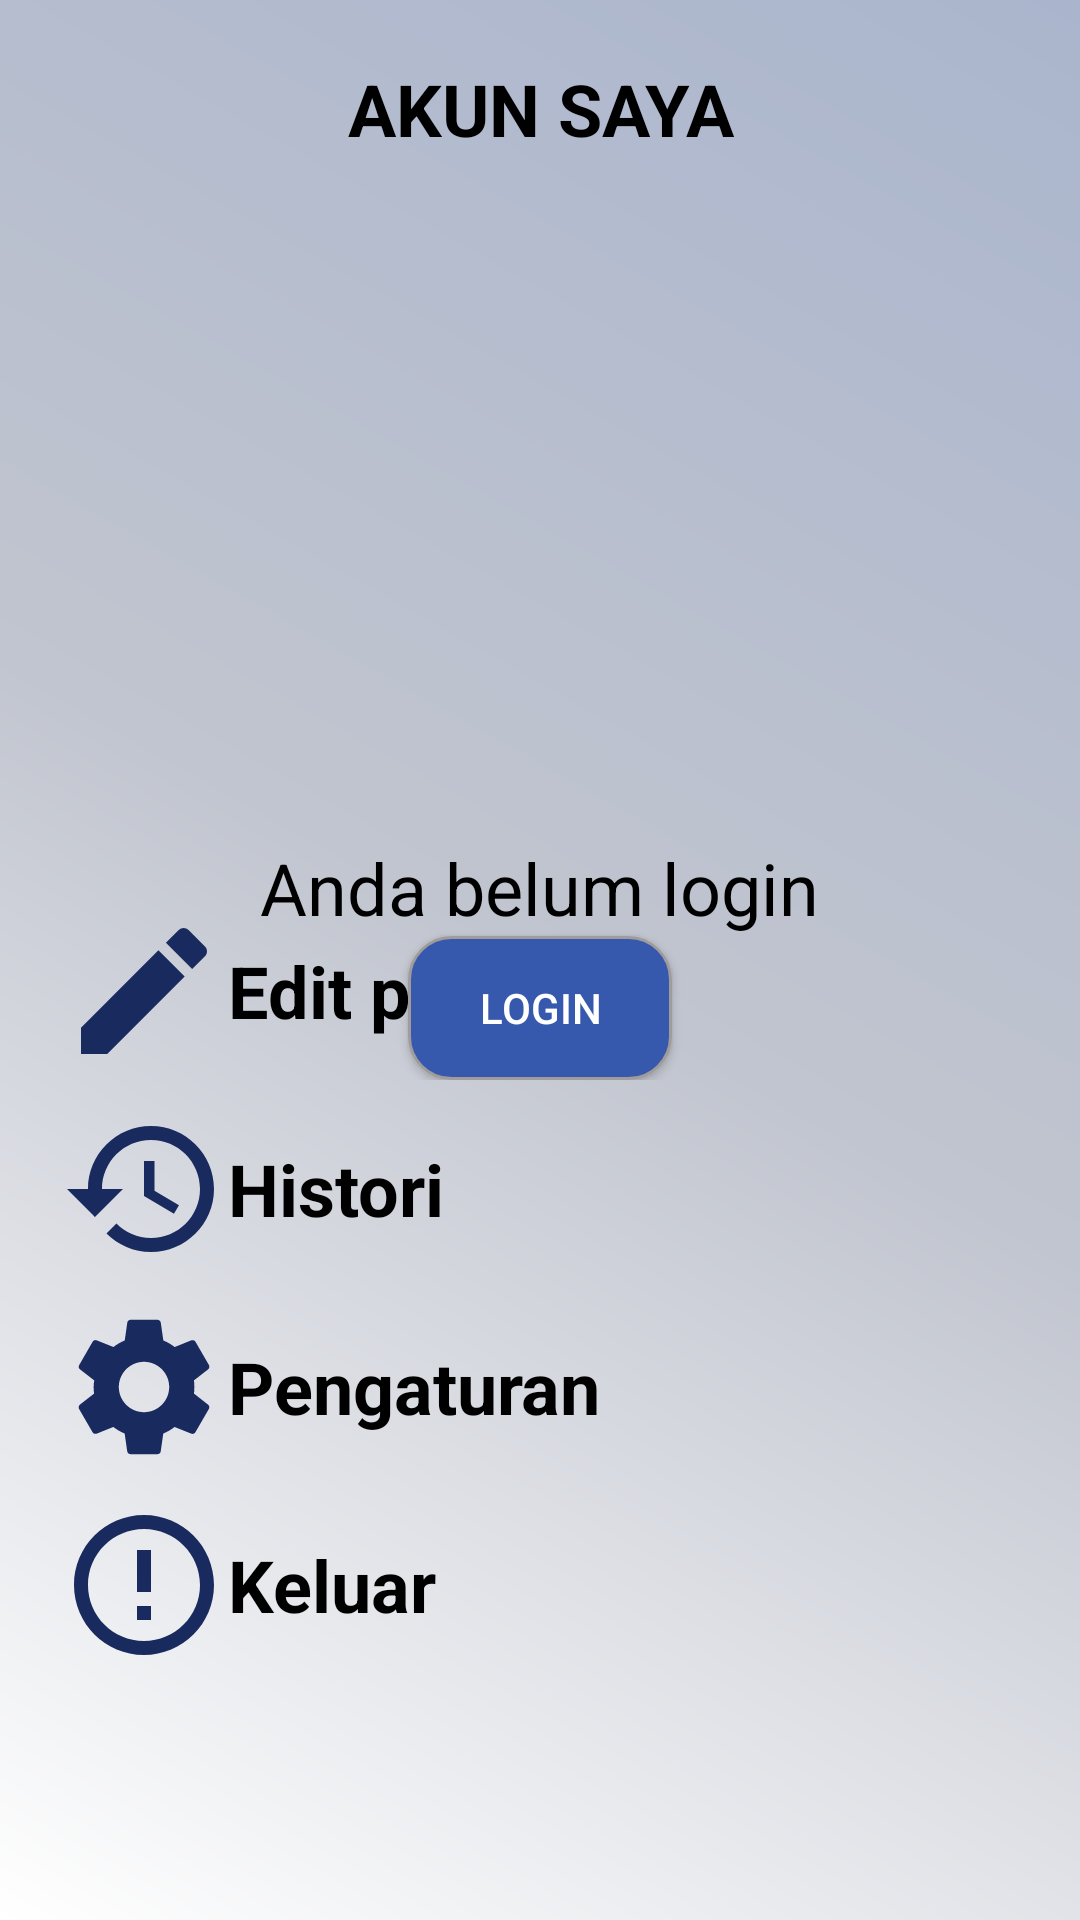

Where icons sit on this 1080px×1920px app screen, as (x1, y1, x2, y2):
history: (67, 1126, 214, 1252)
settings: (78, 1319, 210, 1455)
